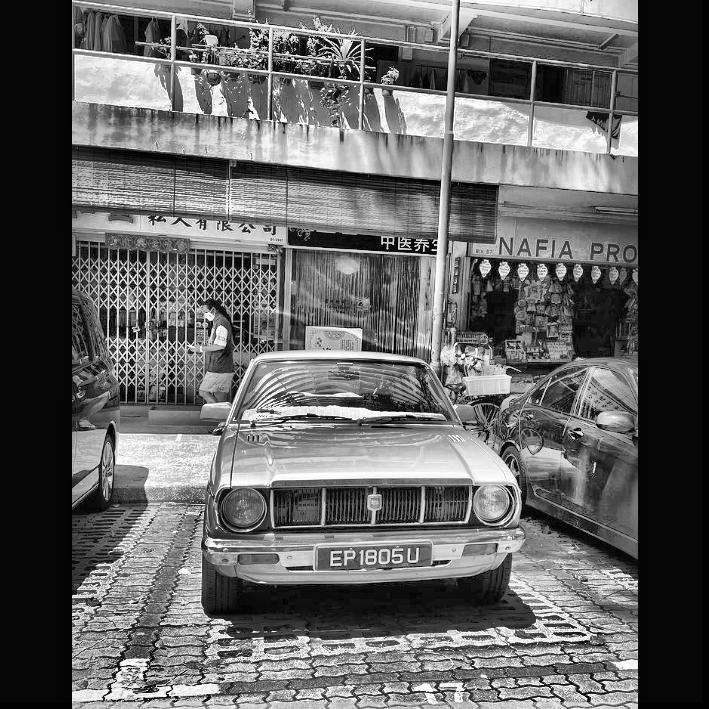License-Plates: (316, 543, 431, 570)
